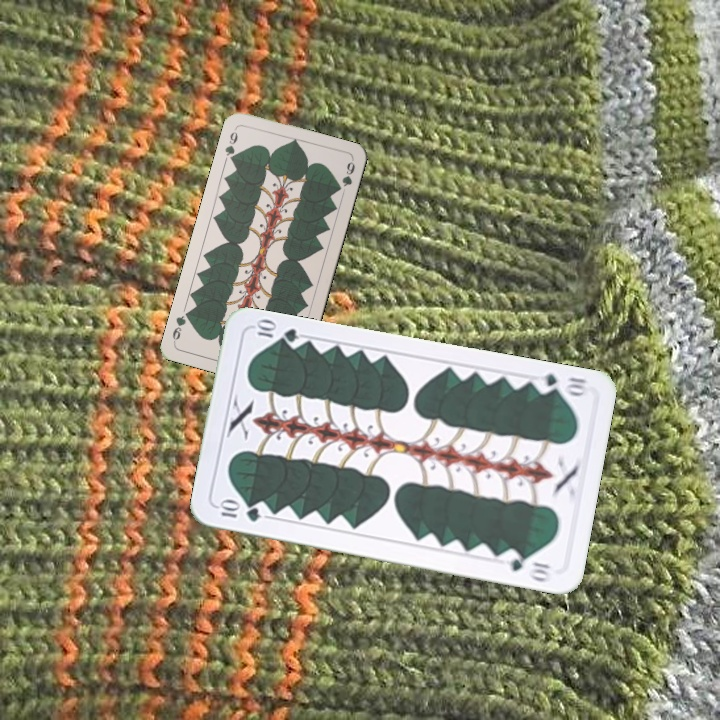G10: (531, 369, 591, 399), (214, 498, 263, 524)
G9: (221, 128, 240, 165)
